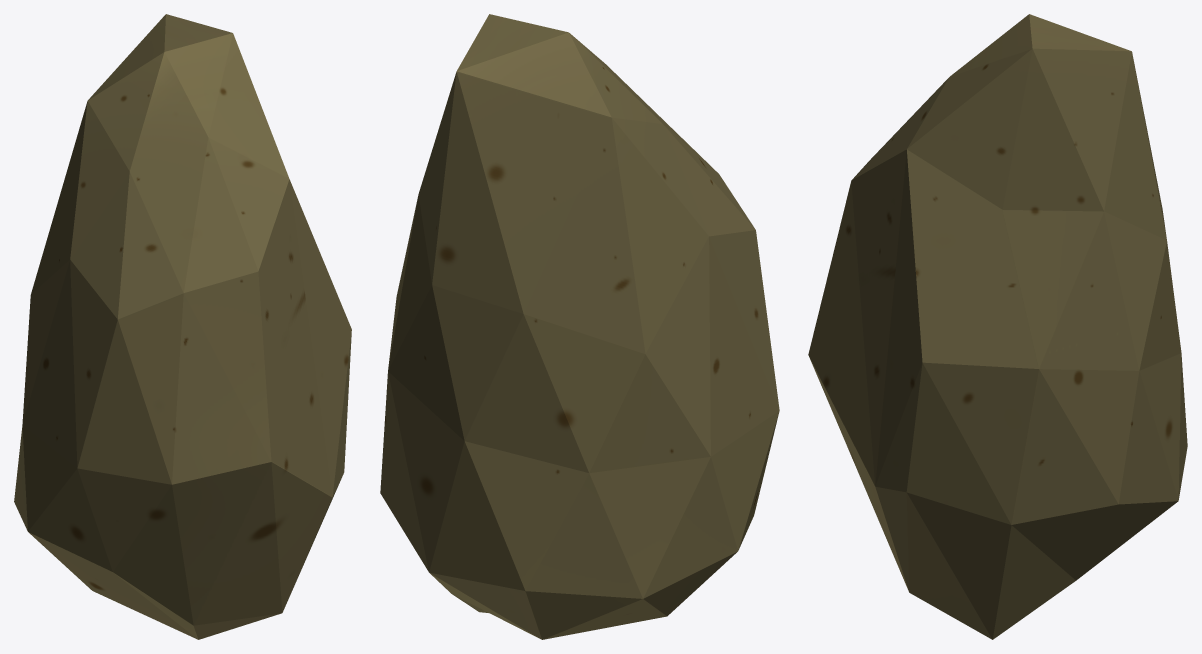
File: Potato.fbx
3 views of the same model, side by side, from view 1: azimuth 30°, elevation 25°; view 2: azimuth 150°, elevation 25°; view 3: azimuth 270°, elevation 25° (orthographic). The views are drawn at different scales.
Parts seen in each view (by area): view 1: Icosphere; view 2: Icosphere; view 3: Icosphere.
Part boxes in pixels (left/top/right/bottom): Icosphere: left=14, top=14, right=351, bottom=639; Icosphere: left=380, top=14, right=779, bottom=639; Icosphere: left=808, top=14, right=1187, bottom=639.
Bounding box in the file's own units: 28.46 × 51.67 × 30.77.
Materials: 1 (1 with a texture image).
